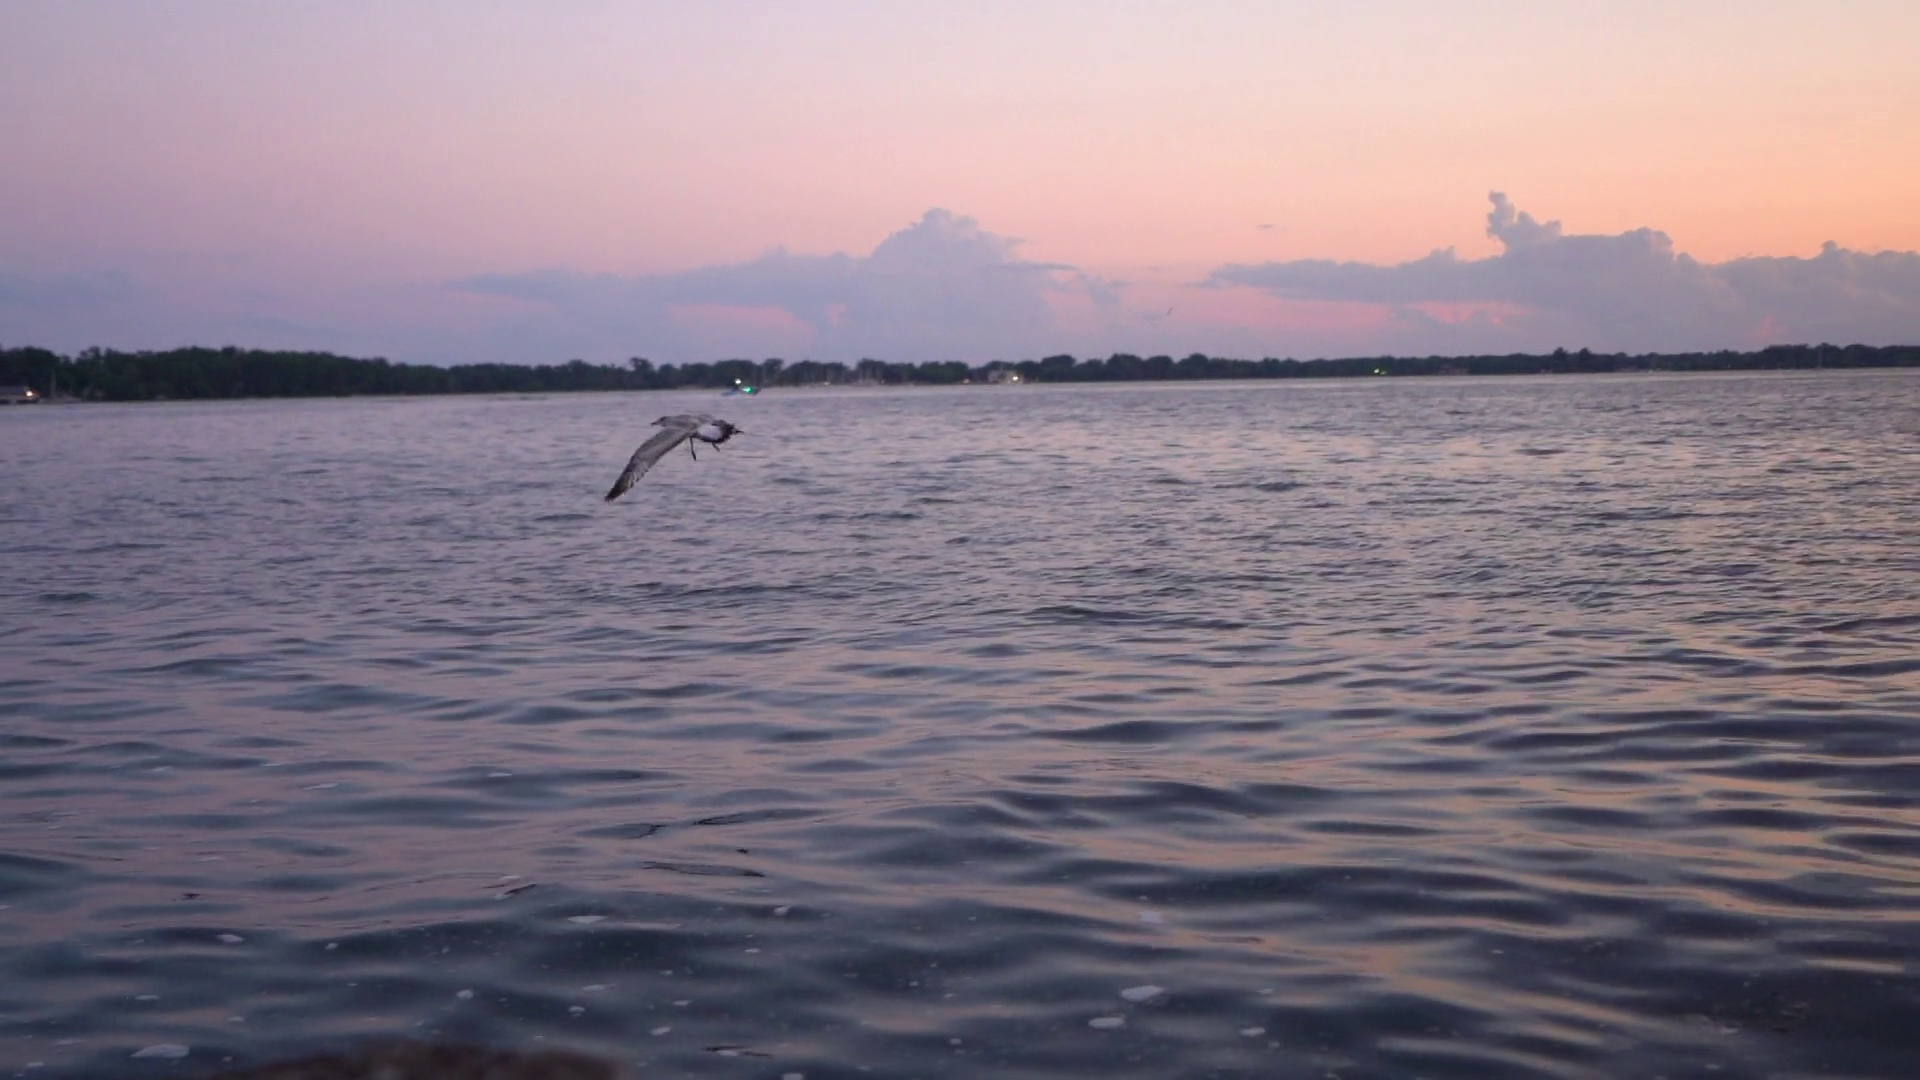bird: (601, 409, 746, 504)
